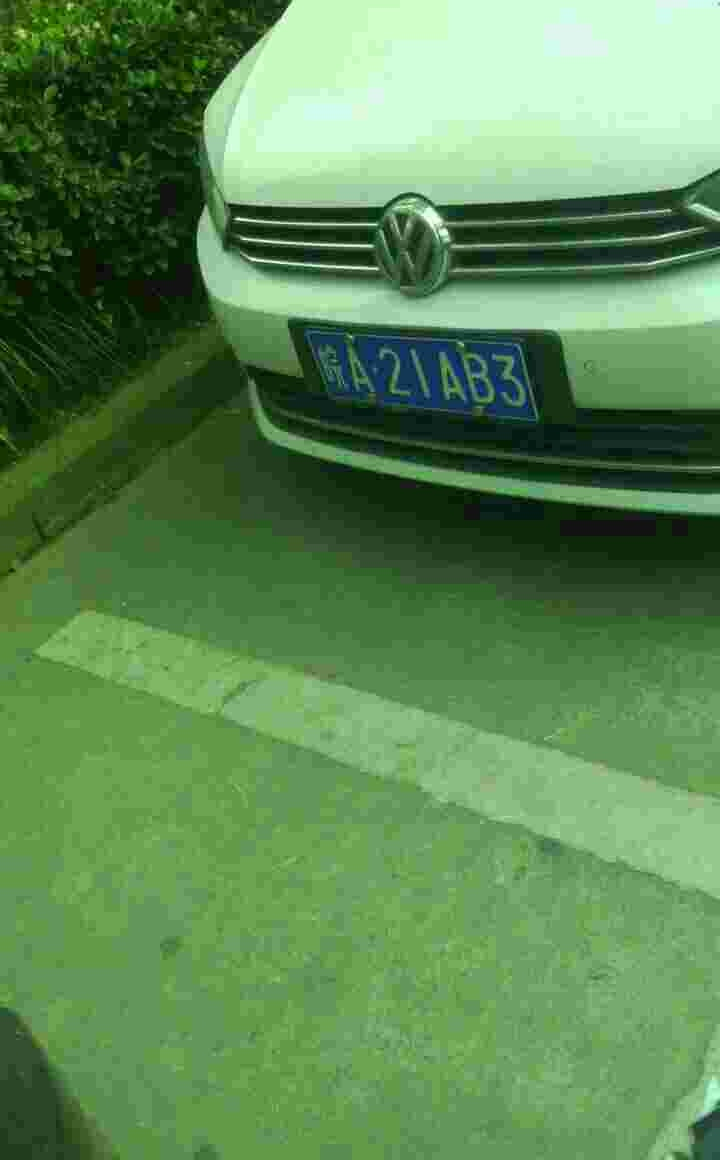plate: (297, 321, 545, 425)
